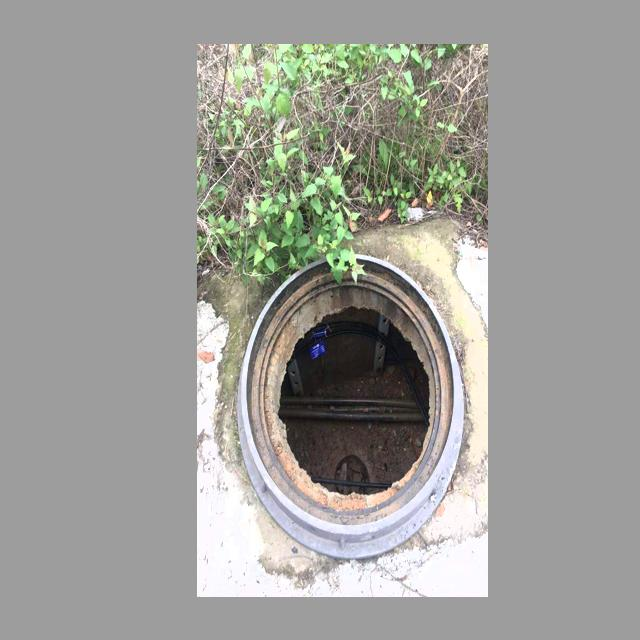lose: (235, 240, 462, 553)
